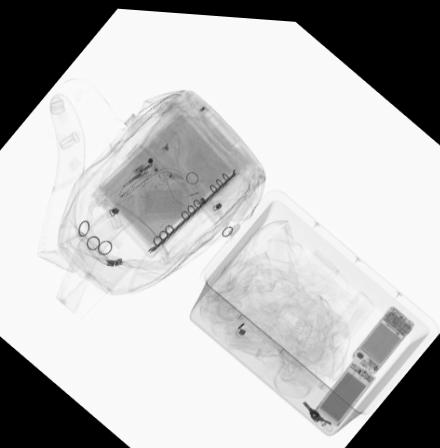Powerbank: (312, 353, 376, 419)
